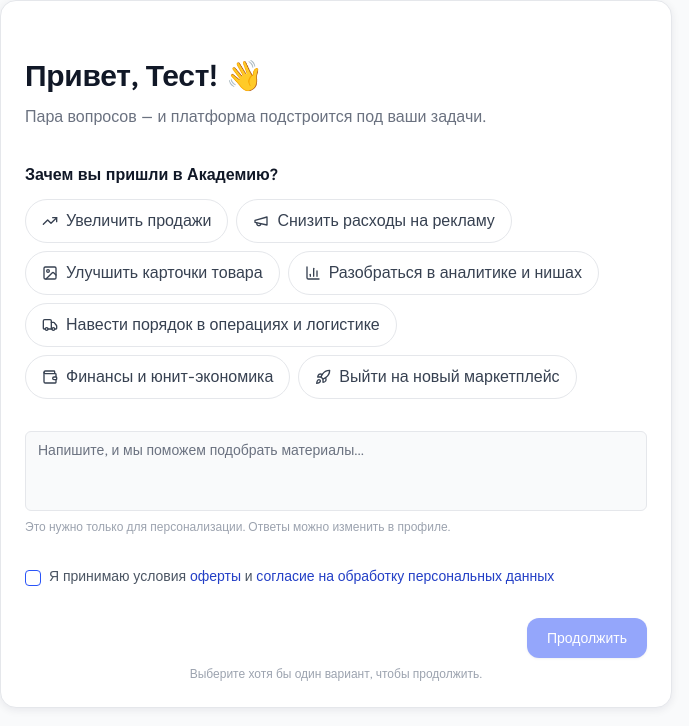
WelcomePage — legal consent gate (OAuth/partner) › shows the checkbox and blocks step 1 until it is accepted
// A goal alone is not enough — the legal checkbox must also be accepted.
What coordinates should you click on to do the following:
click the button "Увеличить продажи"
I would click on:
 (127, 221)
Its box is [25,199,228,243].
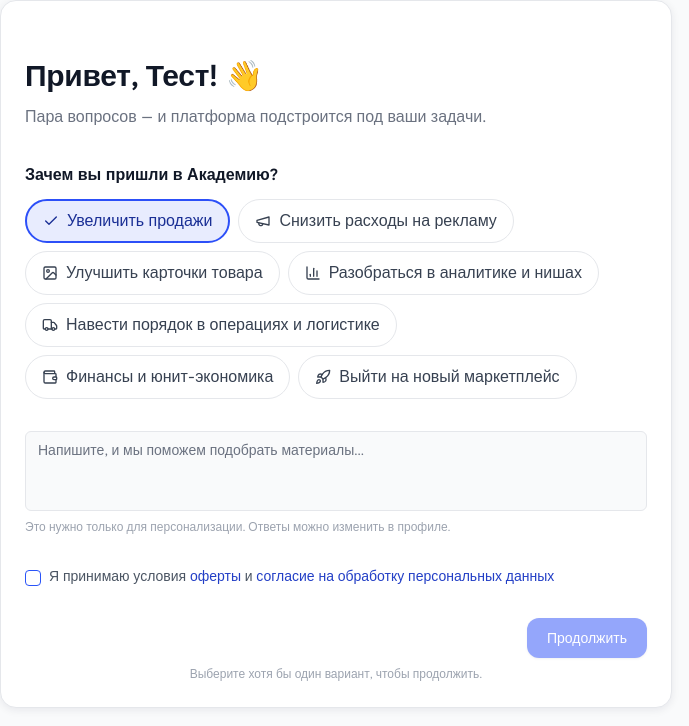
Check: the button "Продолжить" is disabled, box [527,618,647,658]
// The checkbox is present for this (OAuth/partner) user.
What coordinates should you click on to do the following:
click the checkbox
I would click on:
 (33, 578)
Its box is [25,570,41,586].
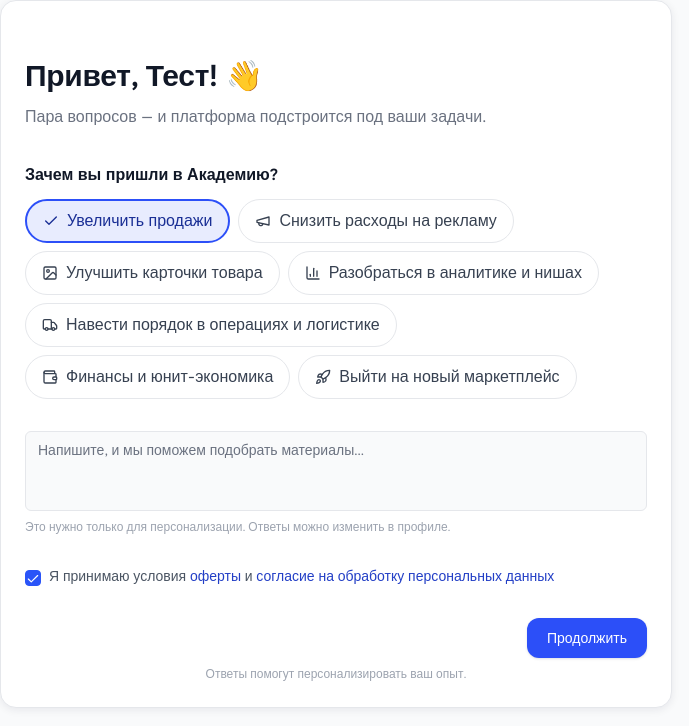
Check: the button "Продолжить" is enabled, box [527,618,647,658]
